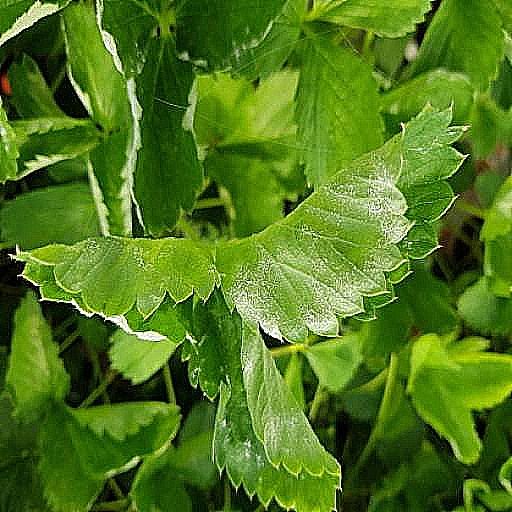Powdery Mildew Leaf: (214, 166, 473, 415), (179, 0, 344, 223), (9, 167, 223, 279), (125, 272, 204, 481), (164, 436, 291, 511), (96, 435, 166, 511)
